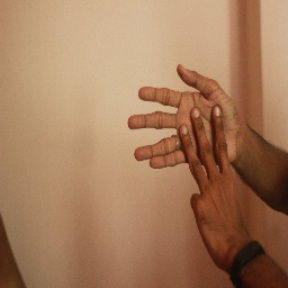M: (122, 59, 239, 202)
